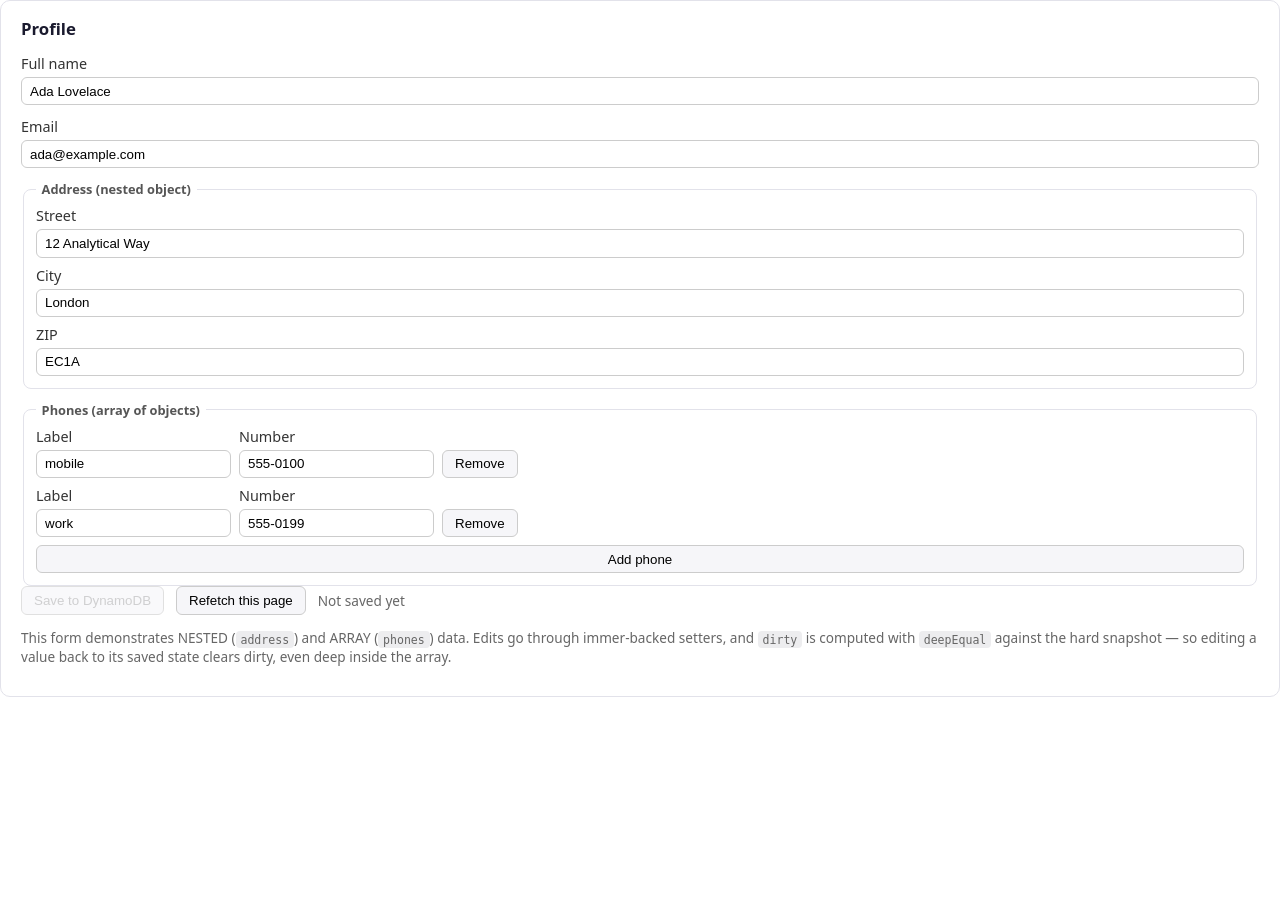
it: <ProfilePage /> › Remove deletes the row at that index
The image size is (1280, 900).
Step 1. Click the 1st button "Remove" → (480, 464), box [442, 450, 518, 478]
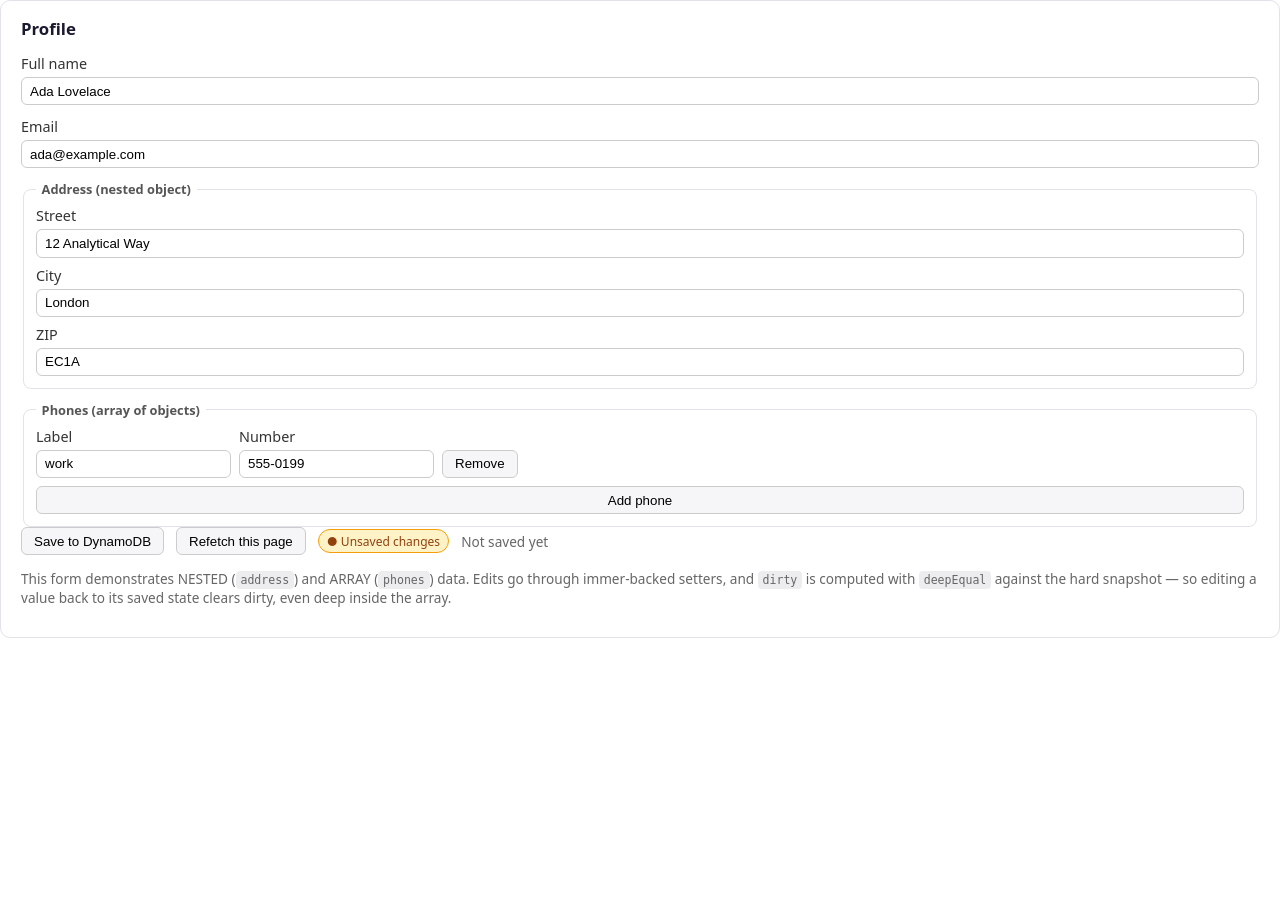
Expected: the field labelled "Number" holds "555-0199", [239, 450, 434, 478]
